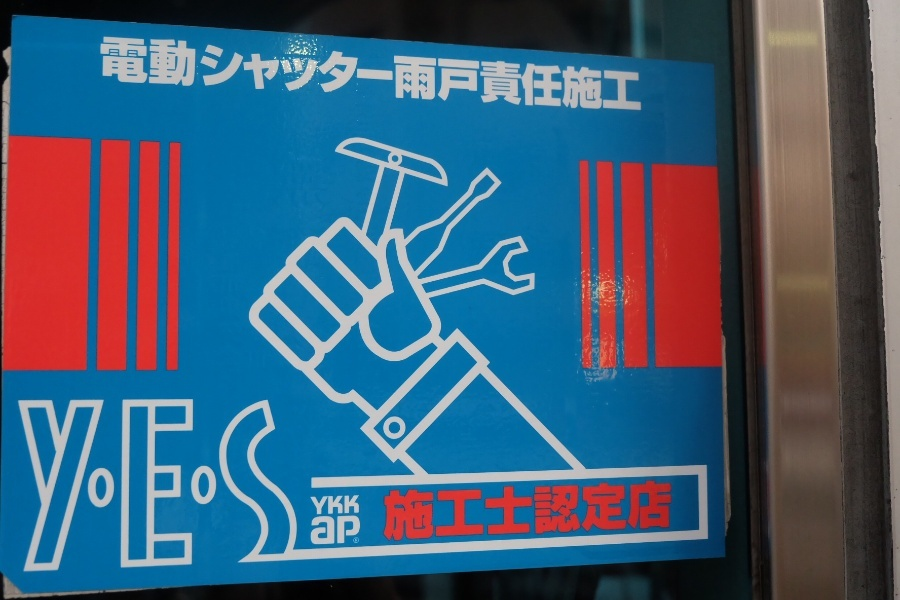text: (17, 397, 32, 575), (33, 397, 48, 575), (49, 397, 64, 575), (65, 397, 80, 575), (81, 397, 96, 575), (97, 397, 112, 575), (113, 397, 128, 575), (129, 397, 144, 575), (145, 397, 160, 575), (161, 397, 176, 575), (177, 397, 192, 575), (193, 397, 208, 575), (209, 397, 224, 575), (225, 397, 240, 575), (241, 397, 256, 575), (257, 397, 272, 575), (273, 397, 288, 575), (289, 397, 299, 575), (113, 32, 128, 118), (129, 32, 144, 118), (145, 32, 160, 118), (161, 32, 176, 118), (177, 32, 192, 118), (193, 32, 208, 118), (209, 32, 224, 118), (225, 32, 240, 118), (241, 32, 256, 118), (257, 32, 272, 118), (273, 32, 288, 118), (289, 32, 304, 118), (305, 32, 320, 118), (321, 32, 336, 118), (337, 32, 352, 118), (353, 32, 368, 118), (369, 32, 384, 118), (385, 32, 400, 118), (401, 32, 416, 118), (417, 32, 432, 118), (433, 32, 448, 118), (449, 32, 464, 118), (465, 32, 480, 118), (481, 32, 496, 118), (497, 32, 512, 118), (513, 32, 528, 118), (529, 32, 544, 118), (545, 32, 560, 118), (561, 32, 576, 118), (577, 32, 592, 118), (593, 32, 608, 118), (609, 32, 624, 118), (625, 32, 640, 118), (100, 32, 112, 118), (385, 478, 400, 545), (401, 478, 416, 545), (417, 478, 432, 545), (433, 478, 448, 545), (449, 478, 464, 545), (465, 478, 480, 545), (481, 478, 496, 545), (497, 478, 512, 545), (513, 478, 528, 545), (529, 478, 544, 545), (545, 478, 560, 545), (561, 478, 576, 545), (577, 478, 592, 545), (593, 478, 608, 545), (609, 478, 624, 545), (625, 478, 640, 545), (641, 478, 656, 545), (657, 478, 672, 545), (641, 32, 647, 118), (321, 517, 336, 547), (337, 517, 352, 547), (321, 495, 336, 519), (337, 495, 352, 519), (310, 517, 320, 547), (311, 495, 320, 519), (353, 517, 360, 547), (381, 478, 384, 545), (353, 495, 361, 519), (673, 478, 674, 545)
